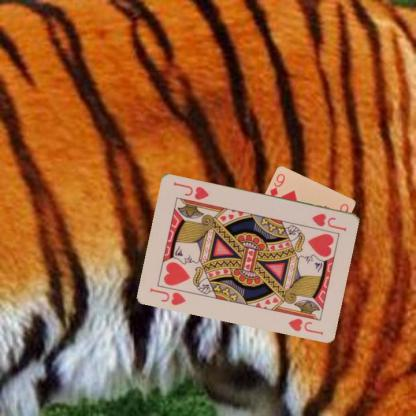9d: (268, 171, 286, 199)
Jh: (310, 210, 348, 233), (148, 286, 188, 306)
